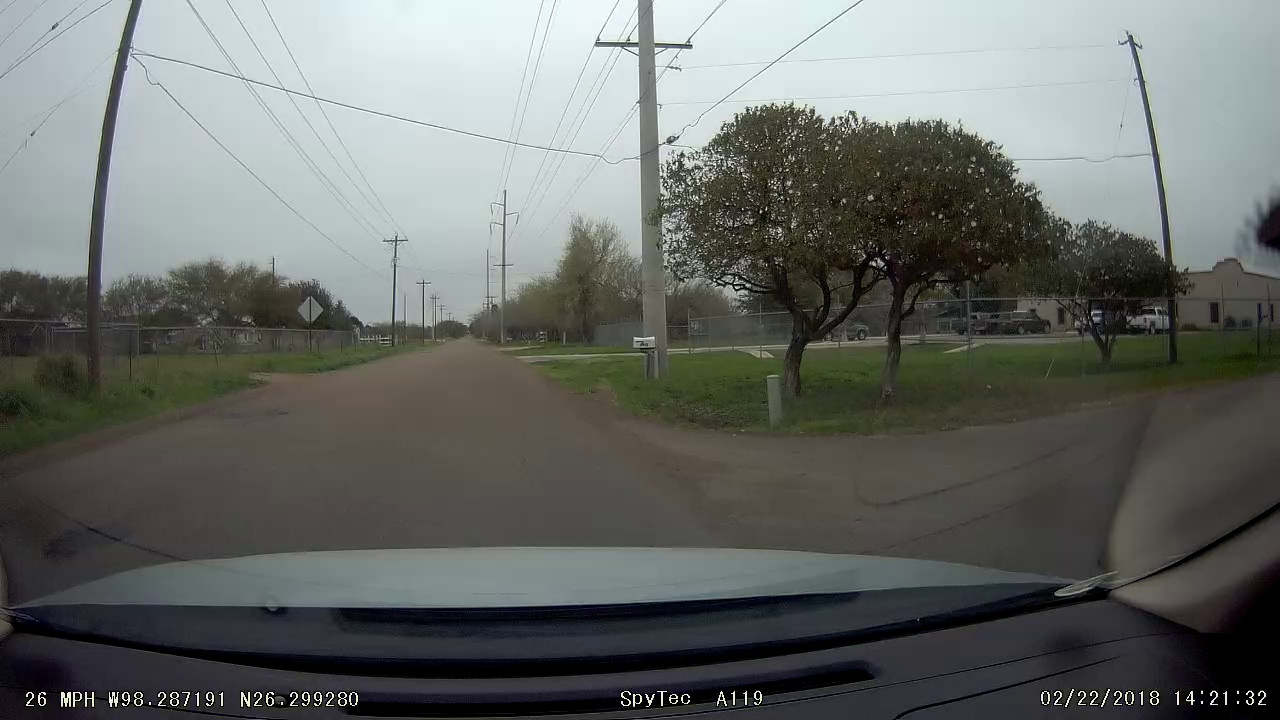pothole: (226, 405, 308, 424)
